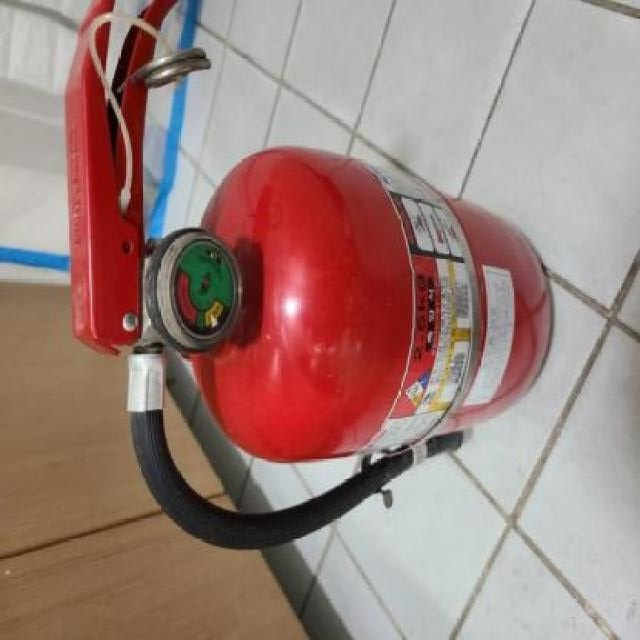fire extinguisher: (63, 0, 552, 553)
